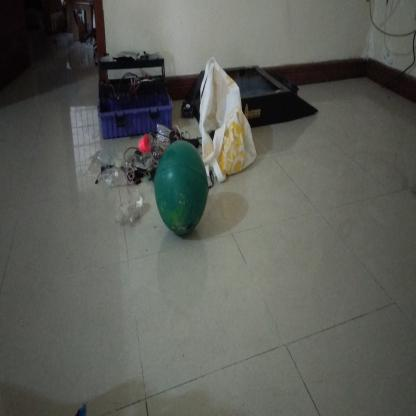green_buoy: (154, 139, 209, 241)
